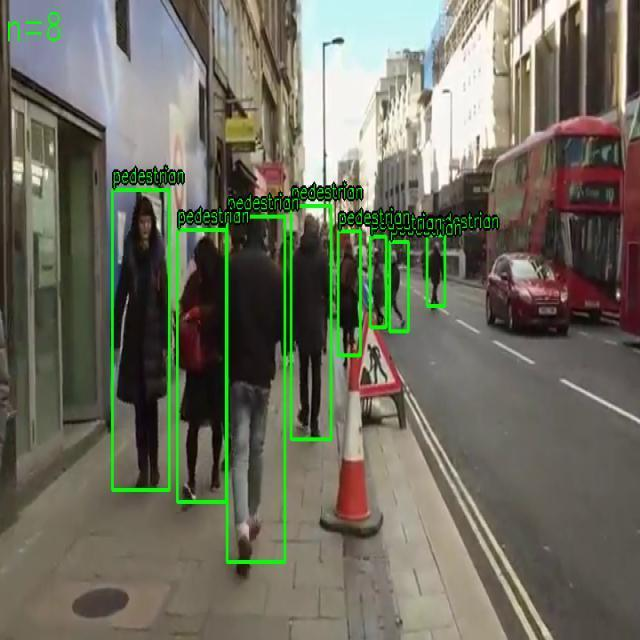person: (227, 216, 286, 563), (112, 189, 170, 491), (177, 229, 227, 503), (290, 205, 332, 440), (338, 231, 361, 356), (389, 241, 409, 332), (369, 236, 386, 328), (427, 234, 445, 306)
